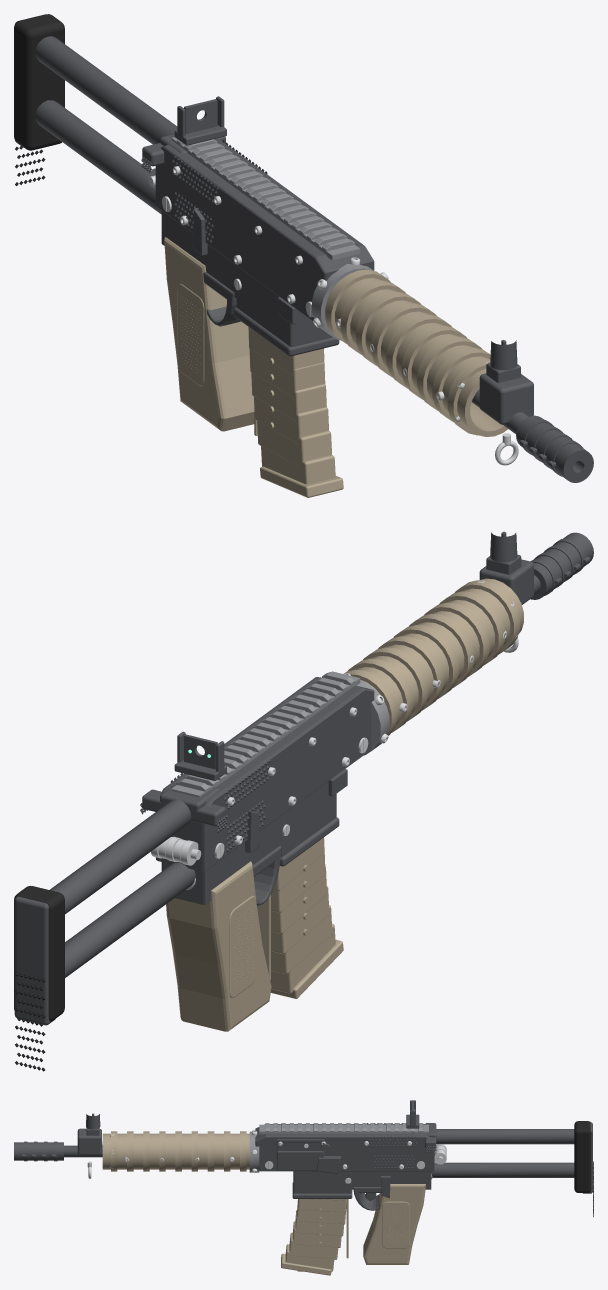
The model's file is akms.glb.
3 renders of one model, top to bottom at view 1: azimuth 30°, elevation 25°; view 2: azimuth 150°, elevation 25°; view 3: azimuth 270°, elevation 25°, orthographic. The views are drawn at different scales.
Parts seen in each view (by area): view 1: folding-stock-rifle, magazine/polymerTan, stock-fold/gunmetal, stock-fold/rubber, charge; view 2: folding-stock-rifle, stock-fold/gunmetal, magazine/polymerTan, stock-fold/rubber, charge; view 3: folding-stock-rifle, stock-fold/gunmetal, magazine/polymerTan, stock-fold/rubber, charge.
Part boxes in pixels (<box>): folding-stock-rifle: <box>148,96,593,482</box>; magazine/polymerTan: <box>248,327,343,497</box>; stock-fold/gunmetal: <box>15,14,177,214</box>; stock-fold/rubber: <box>14,14,64,185</box>; charge: <box>141,134,225,172</box>; folding-stock-rifle: <box>151,531,593,1031</box>; stock-fold/gunmetal: <box>14,799,195,1025</box>; magazine/polymerTan: <box>257,837,343,998</box>; stock-fold/rubber: <box>14,886,64,1071</box>; charge: <box>140,783,227,832</box>; folding-stock-rifle: <box>14,1100,446,1264</box>; stock-fold/gunmetal: <box>431,1122,592,1193</box>; magazine/polymerTan: <box>281,1199,348,1275</box>; stock-fold/rubber: <box>574,1121,593,1216</box>; charge: <box>412,1123,436,1152</box>.
Bounding box in the file's own units: 0.0592 × 0.2264 × 0.7183.
